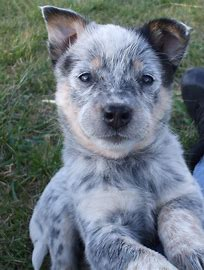dog: (21, 7, 202, 270)
